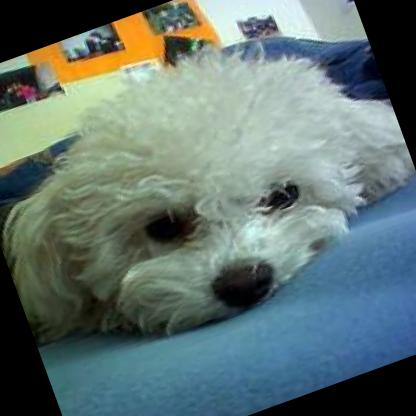toy_poodle: (0, 0, 416, 383)
